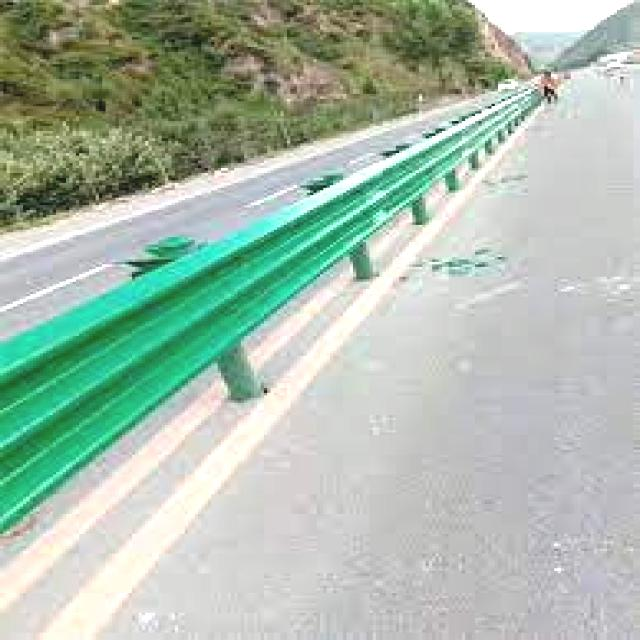Guard rail: (2, 89, 539, 529)
